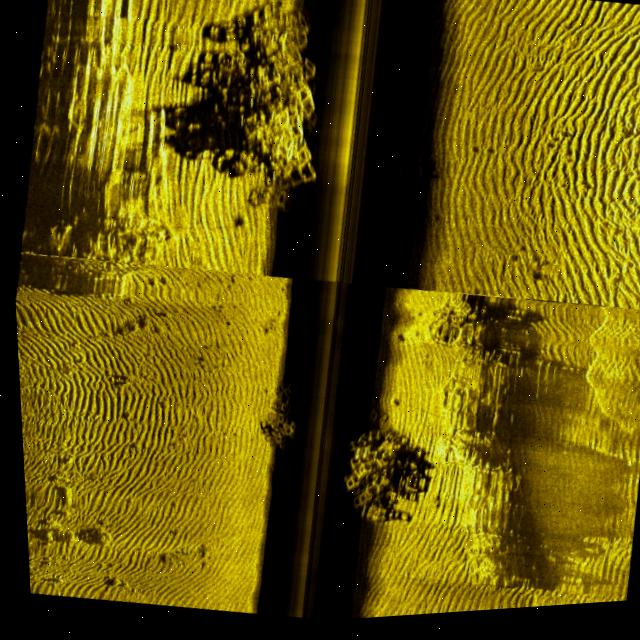artificial reef: (188, 1, 343, 219), (324, 372, 423, 536), (246, 365, 307, 466)
